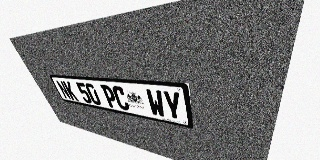0: (84, 83, 102, 106)
5: (75, 82, 93, 104)
C: (111, 86, 131, 111)
K: (62, 81, 79, 101)
N: (55, 80, 72, 100)
P: (100, 85, 119, 109)
W: (145, 89, 166, 118)
Y: (162, 90, 183, 121)
